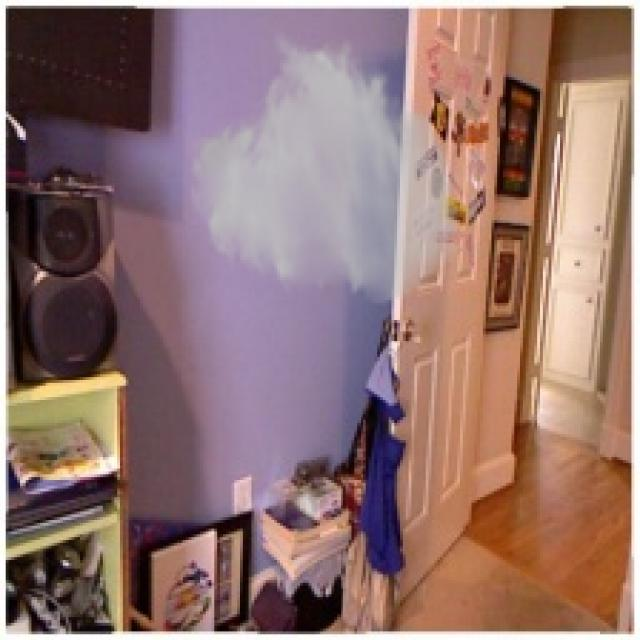smoke: (186, 29, 463, 308)
